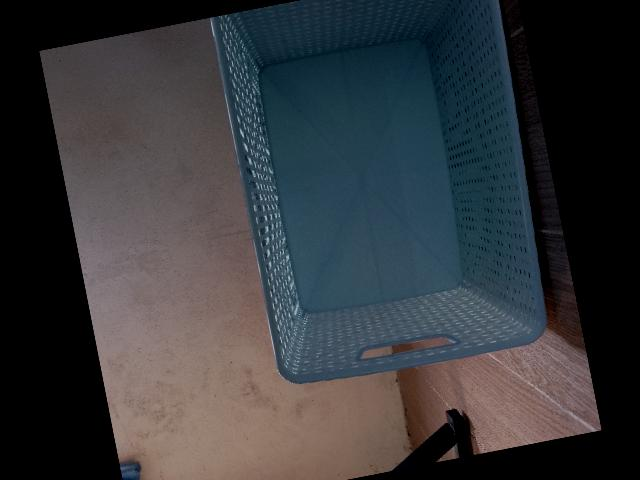cart: (210, 0, 549, 383)
